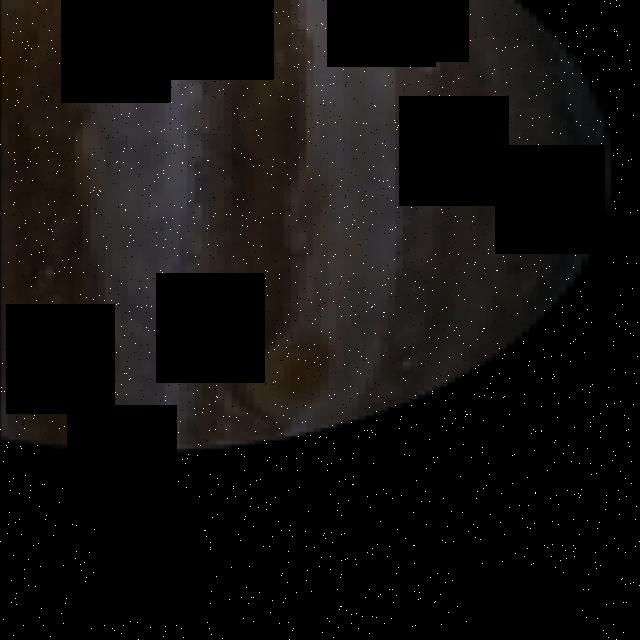Jupiter: (0, 0, 610, 453)
